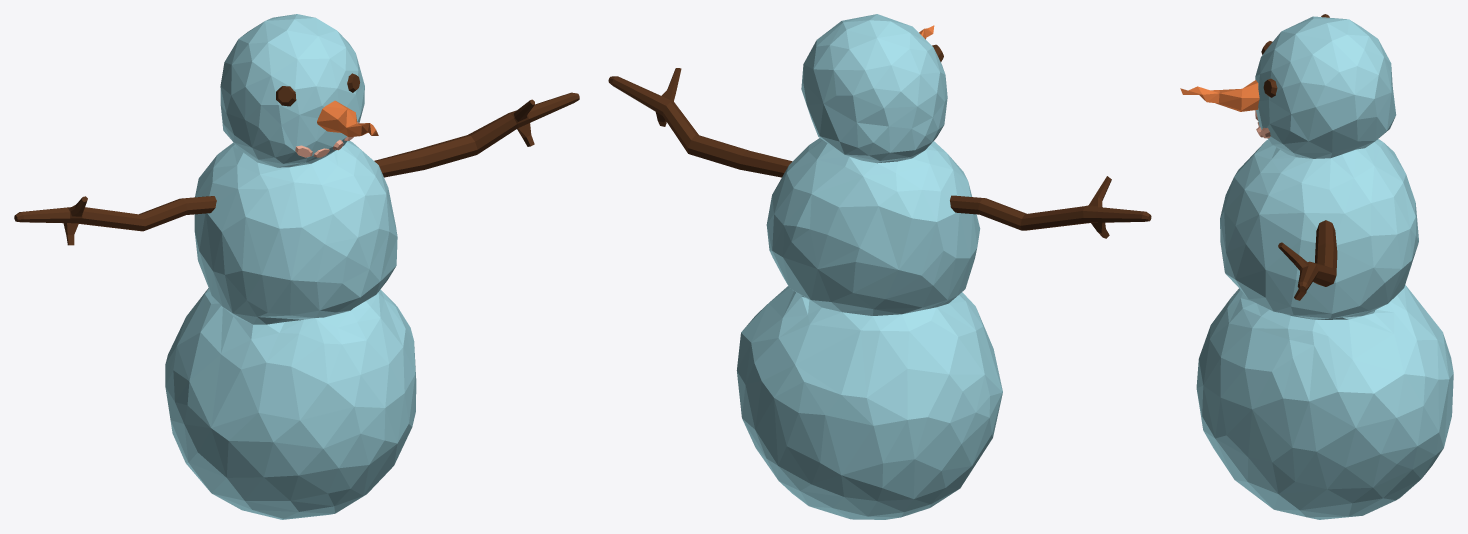
File: back_6_lp.fbx
3 renders of one model, left to right at view 1: azimuth 30°, elevation 25°; view 2: azimuth 150°, elevation 25°; view 3: azimuth 270°, elevation 25°, orthographic.
Parts seen in each view (by area): view 1: back_6_lp; view 2: back_6_lp; view 3: back_6_lp.
Part boxes in pixels (box(x1,y1,x2,y2)): back_6_lp: box(14, 14, 579, 519); back_6_lp: box(608, 14, 1151, 519); back_6_lp: box(1180, 14, 1453, 519).
Bounding box in the file's own units: 486 × 408 × 210.
